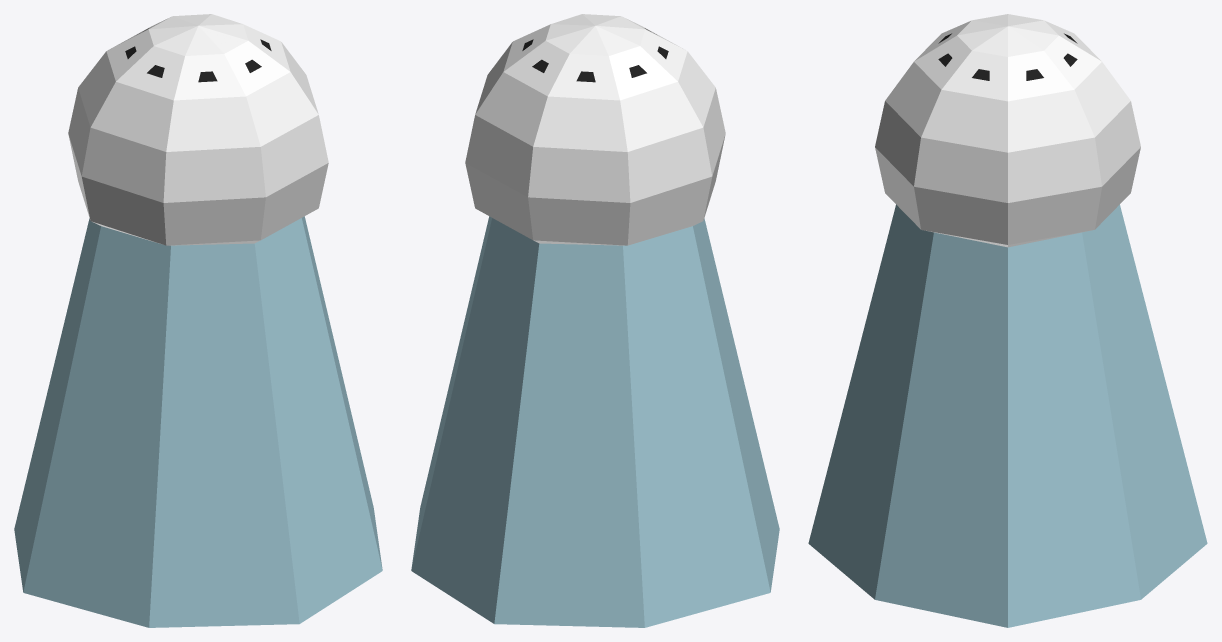
The model's file is Salero.fbx.
3 views of the same model, side by side, from view 1: azimuth 30°, elevation 25°; view 2: azimuth 150°, elevation 25°; view 3: azimuth 270°, elevation 25° (orthographic).
Parts seen in each view (by area): view 1: Salero; view 2: Salero; view 3: Salero.
Part boxes in pixels (x1,y1,x2,y2): Salero: [14, 14, 382, 627]; Salero: [411, 14, 779, 627]; Salero: [808, 14, 1207, 627].
Size of the model in its own units: 8.44 by 12.06 by 8.44.
